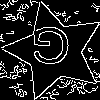G: (29, 26, 72, 75)
